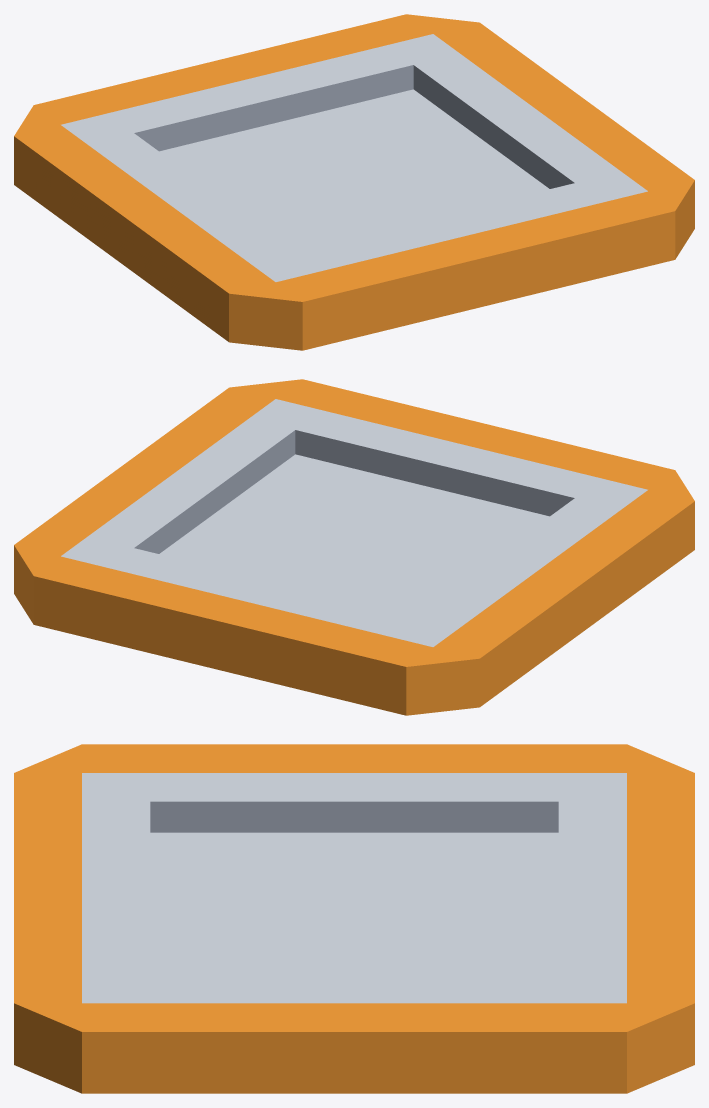
The model's file is platform_small.glb.
The picture shows the model from 3 angles, top to bottom: view 1: azimuth 30°, elevation 25°; view 2: azimuth 150°, elevation 25°; view 3: azimuth 270°, elevation 25°; orthographic projection. The views are drawn at different scales.
Visible parts, largest first — view 1: platform_small; view 2: platform_small; view 3: platform_small.
Boxes of the visible parts, x1,y1,x2,y2 form: platform_small: [14, 14, 694, 350]; platform_small: [14, 379, 694, 715]; platform_small: [14, 744, 694, 1093].
Bounding box in the file's own units: 1 × 0.1 × 1.
